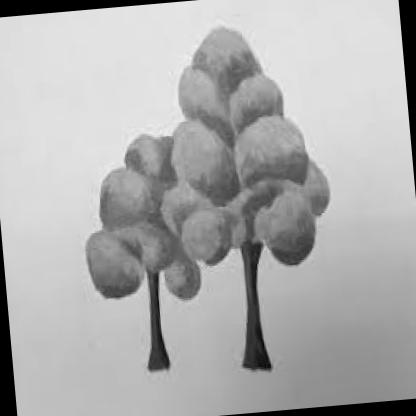crown_cloud: (148, 20, 337, 280), (71, 122, 206, 312)
trunk_straight: (238, 270, 271, 346), (144, 296, 170, 347)
